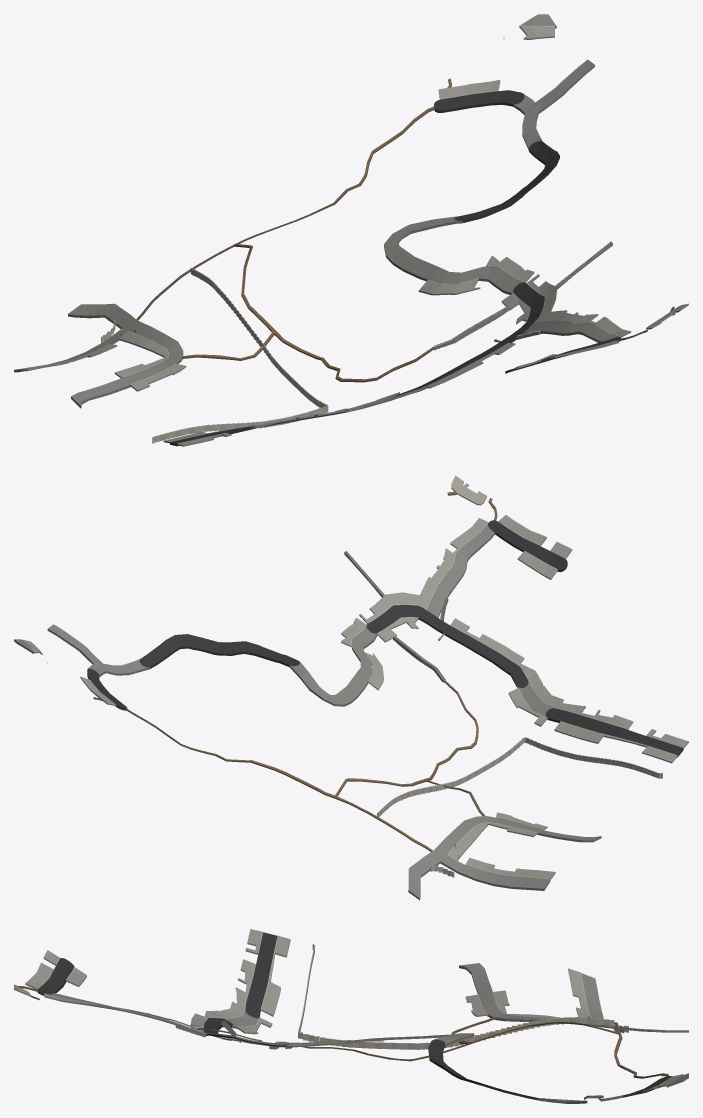
The picture shows the model from 3 angles, top to bottom: view 1: azimuth 30°, elevation 25°; view 2: azimuth 150°, elevation 25°; view 3: azimuth 270°, elevation 25°; orthographic projection. The views are drawn at different scales.
Size of the model in its own units: 294 by 92.79 by 292.
